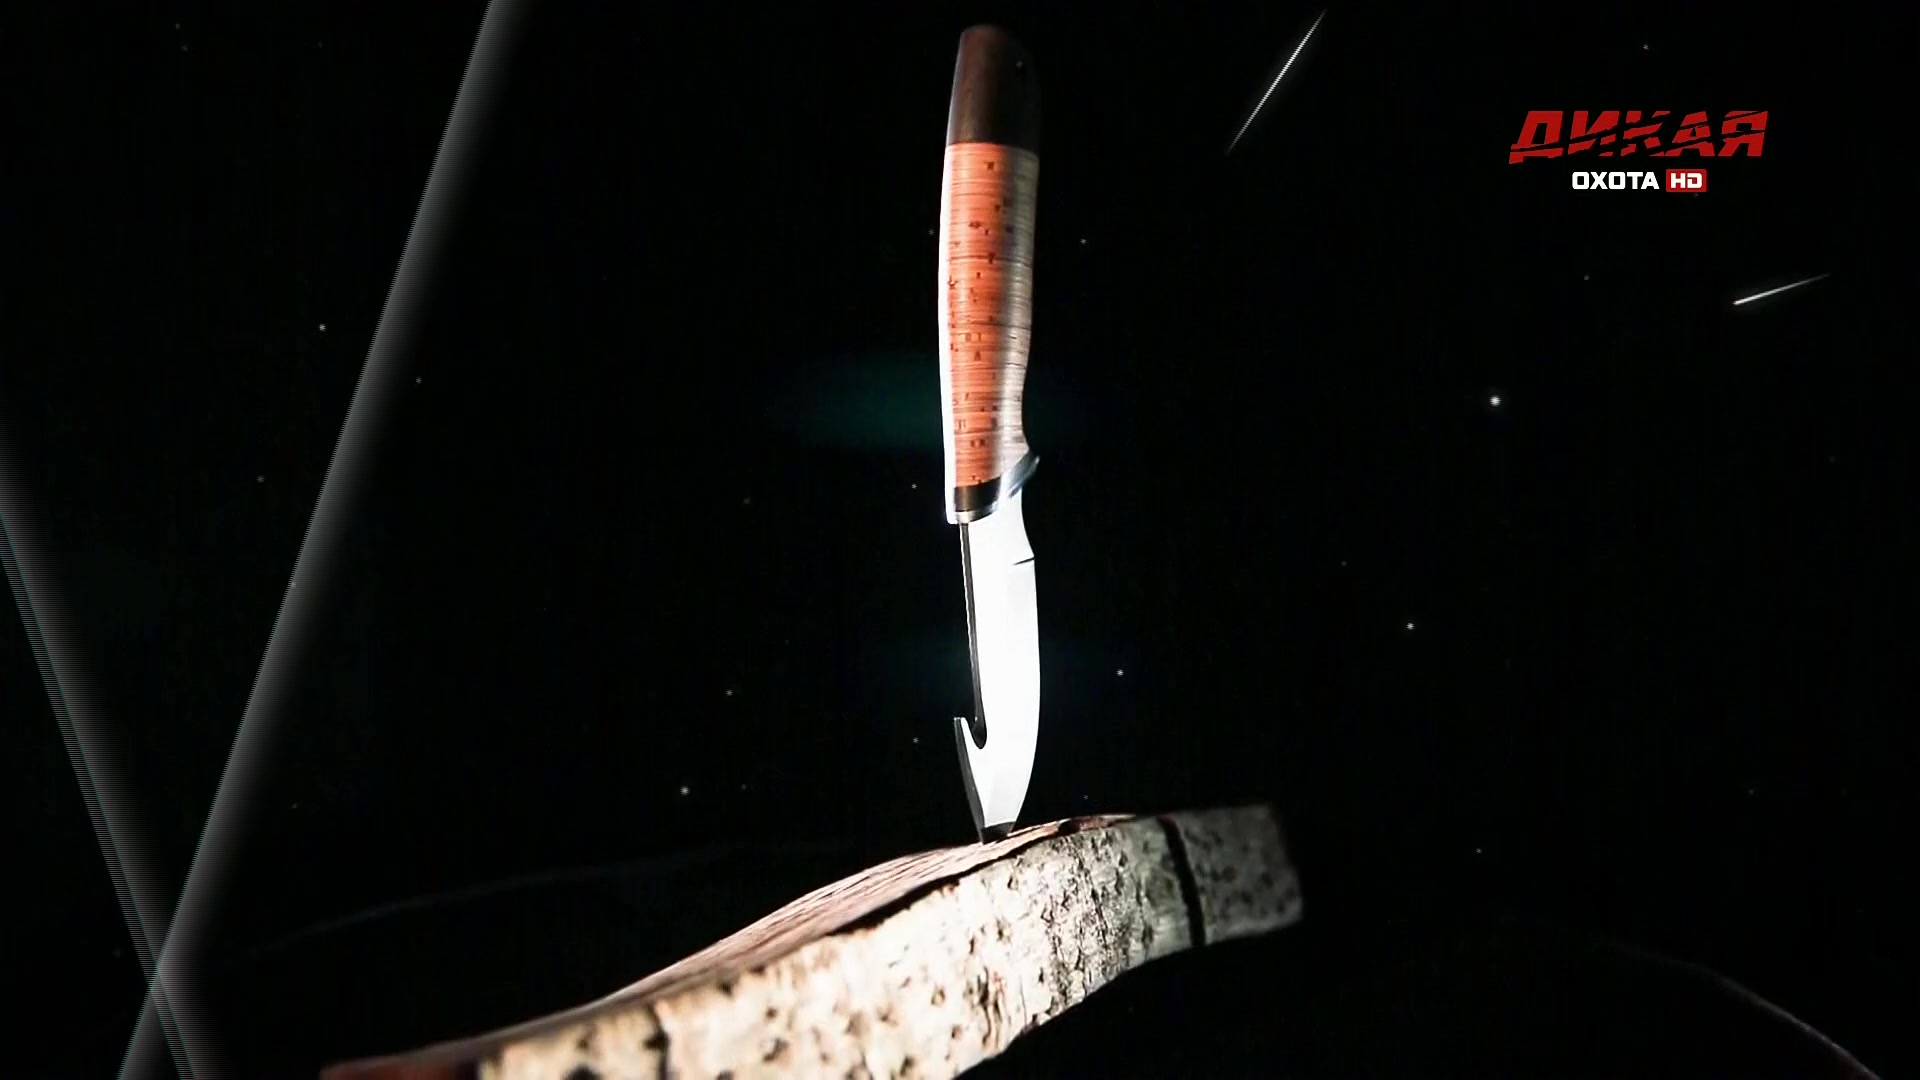Dikaya_Ohota_HD: (1503, 109, 1774, 196)
